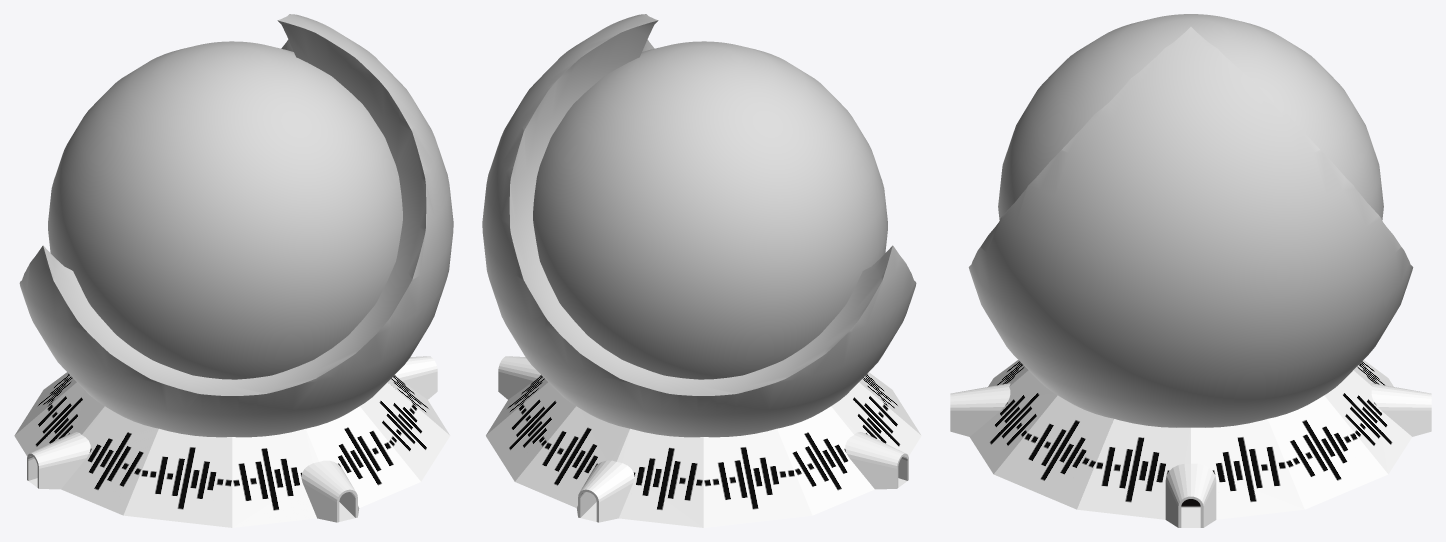
Rendered from LiveDome.fbx.
The picture shows the model from 3 angles, left to right: view 1: azimuth 30°, elevation 25°; view 2: azimuth 150°, elevation 25°; view 3: azimuth 270°, elevation 25°; orthographic projection. The views are drawn at different scales.
Parts seen in each view (by area): view 1: InDome, OutDome, Foundation; view 2: InDome, OutDome, Foundation; view 3: OutDome, Foundation, InDome.
Boxes of the visible parts, <box> form: InDome: <box>48,41,402,379</box>; OutDome: <box>19,14,453,437</box>; Foundation: <box>14,356,450,527</box>; InDome: <box>533,41,887,379</box>; OutDome: <box>482,14,916,437</box>; Foundation: <box>486,356,921,527</box>; OutDome: <box>968,27,1413,427</box>; Foundation: <box>950,360,1431,527</box>; InDome: <box>998,14,1383,219</box>.
Size of the model in its own units: 2494 by 2418 by 2494.
